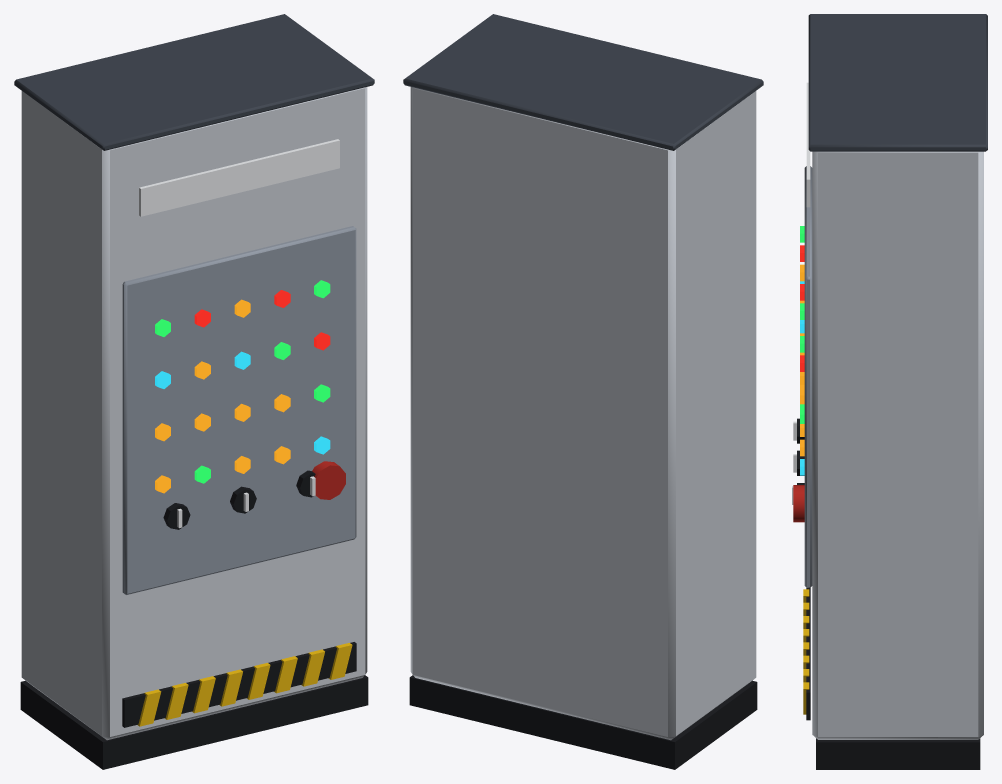
Rendered from junction_control_cabinet_with_lights.glb.
The picture shows the model from 3 angles, left to right: view 1: azimuth 30°, elevation 25°; view 2: azimuth 150°, elevation 25°; view 3: azimuth 270°, elevation 25°; orthographic projection.
Visible parts, largest first — view 1: junction_control_cabinet_with_lights; view 2: junction_control_cabinet_with_lights; view 3: junction_control_cabinet_with_lights.
Part boxes in pixels (box(x1,y1,x2,y2)): junction_control_cabinet_with_lights: box(14, 14, 374, 769); junction_control_cabinet_with_lights: box(403, 14, 763, 769); junction_control_cabinet_with_lights: box(792, 14, 987, 769).
Bounding box in the file's own units: 0.82 × 1.81 × 0.513.
